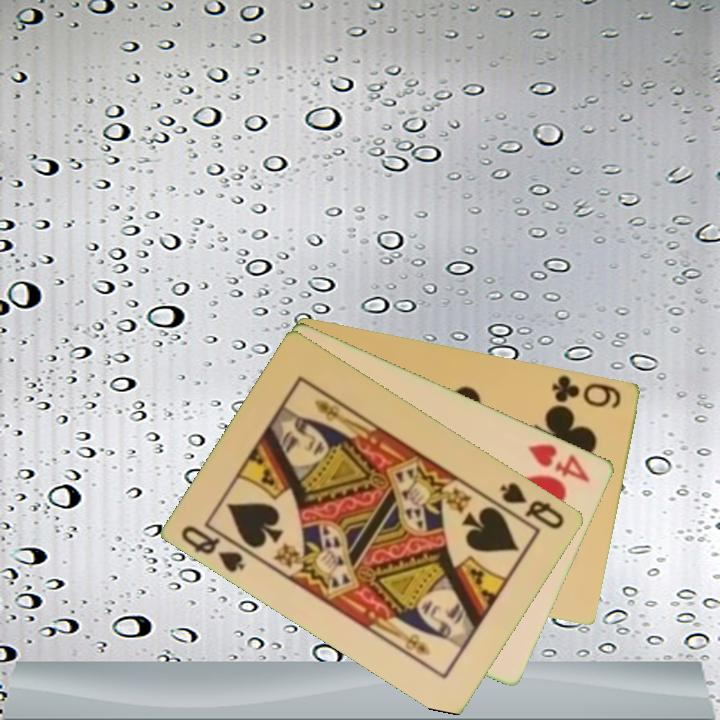4h: (525, 439, 594, 485)
6c: (548, 371, 625, 412)
Qs: (178, 521, 249, 576), (497, 479, 568, 532)
